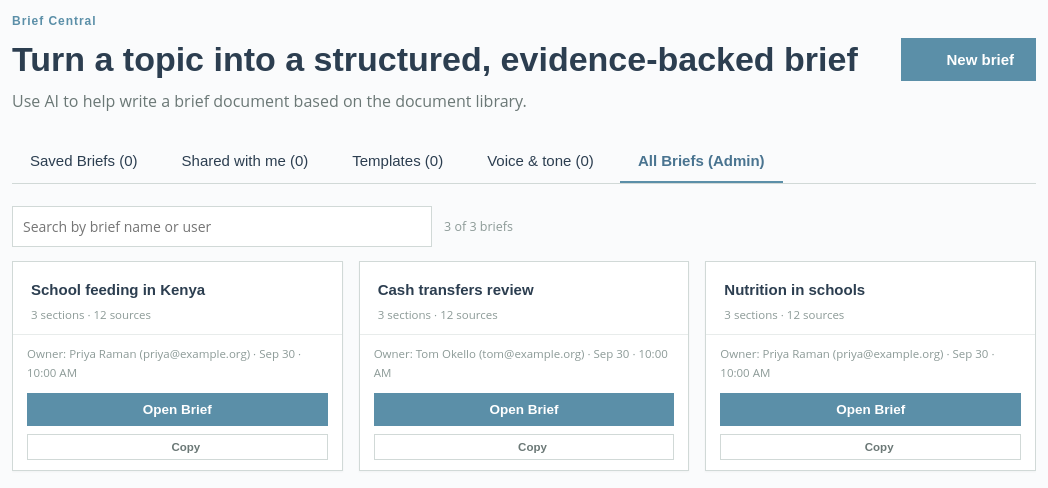
Scenario: the All Briefs (Admin) tab › the search box filters the cards by brief name or user
This screenshot has width=1048, height=488.
Type "tom" into the search field named "Search all briefs by name or user" at (222, 227), box left=12, top=206, right=432, bottom=248
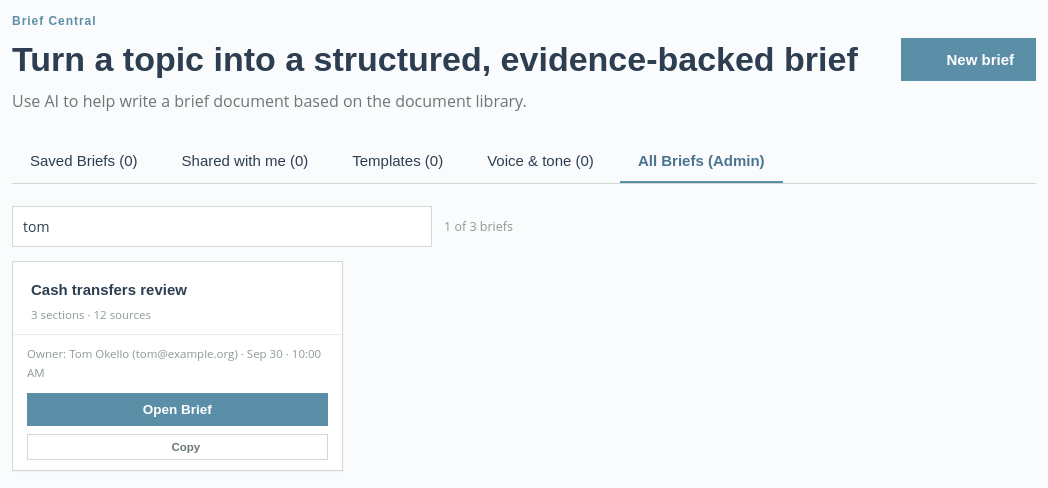
Check: the text "Cash transfers review" is shown, box left=31, top=282, right=187, bottom=298
Check: the button "School feeding in Kenya" is gone
Check: the text "1 of 3 briefs" is shown, box left=444, top=217, right=513, bottom=237
Replace the text in the search field named "Search all briefs by name or user" with "nothing like this" at (222, 227), box left=12, top=206, right=432, bottom=248
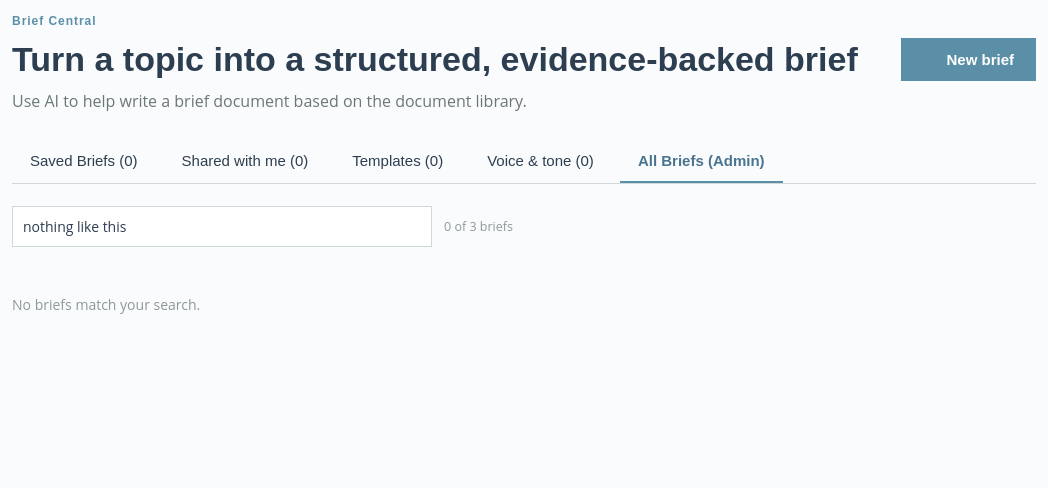
Check: the text "No briefs match your search." is shown, box left=12, top=296, right=200, bottom=314
